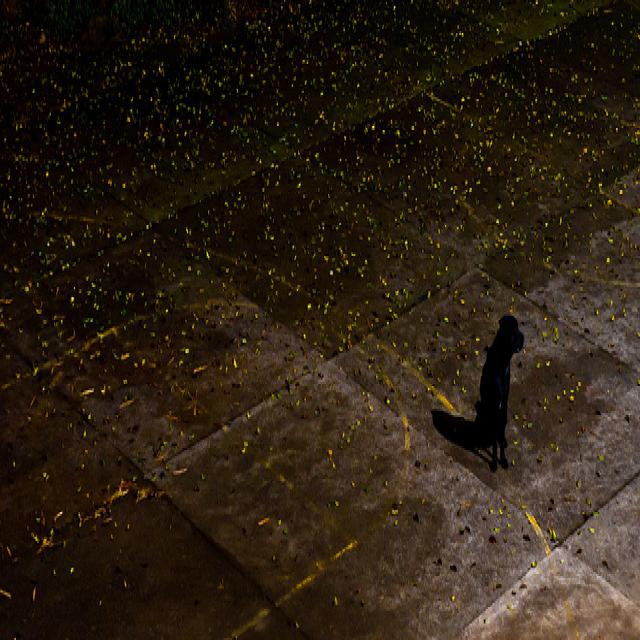Dog: (439, 301, 550, 500)
